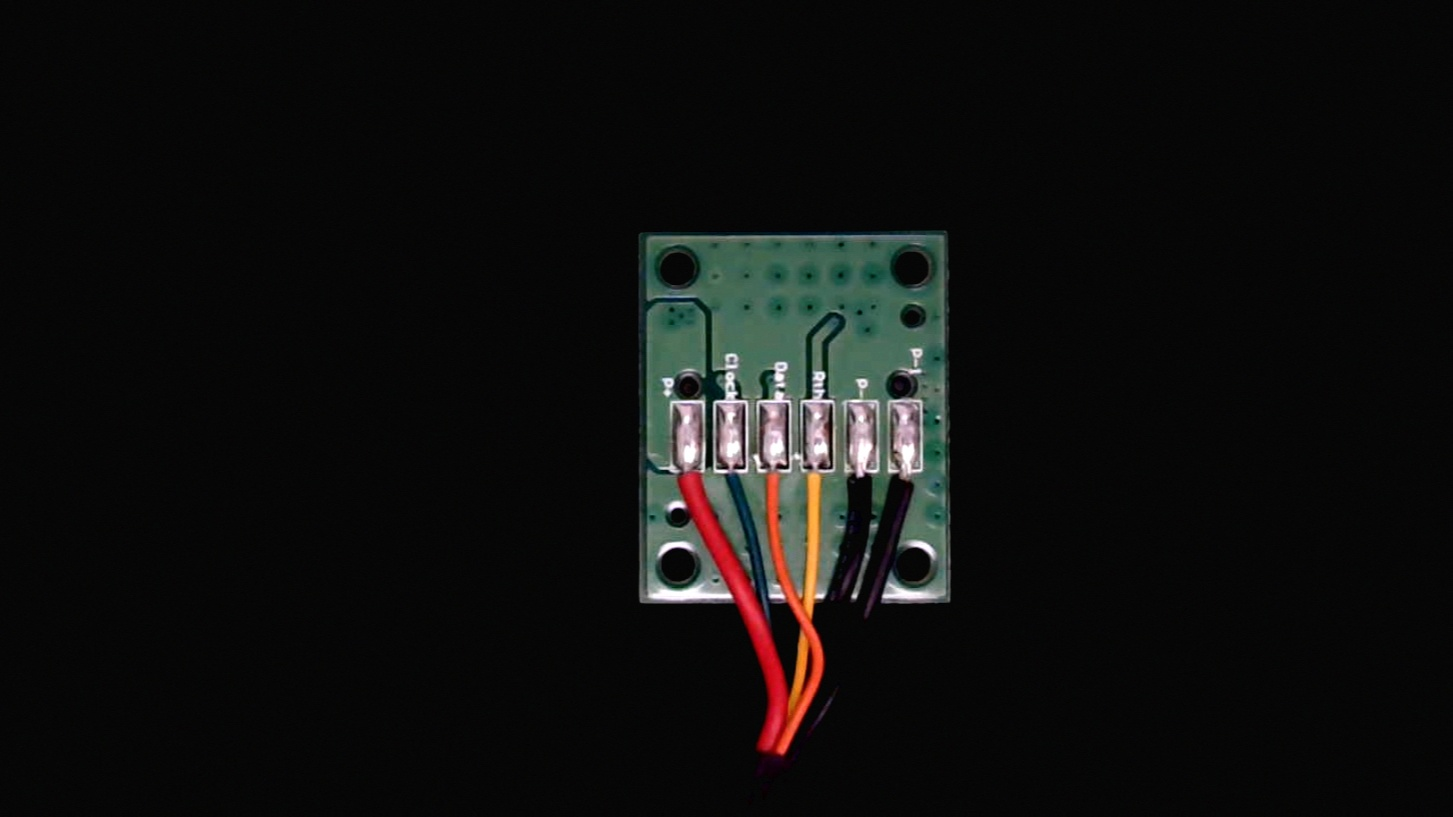Black: (855, 458, 887, 534)
Black1: (897, 458, 936, 535)
Green: (719, 455, 758, 519)
Orange: (765, 456, 801, 531)
Red: (677, 454, 712, 533)
Yellow: (808, 457, 847, 542)
